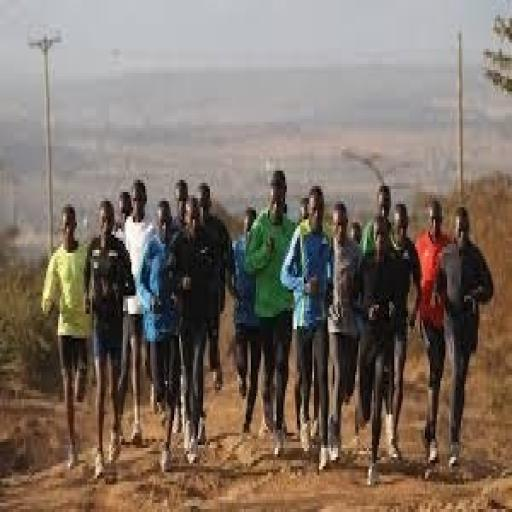running: (39, 168, 497, 488)
